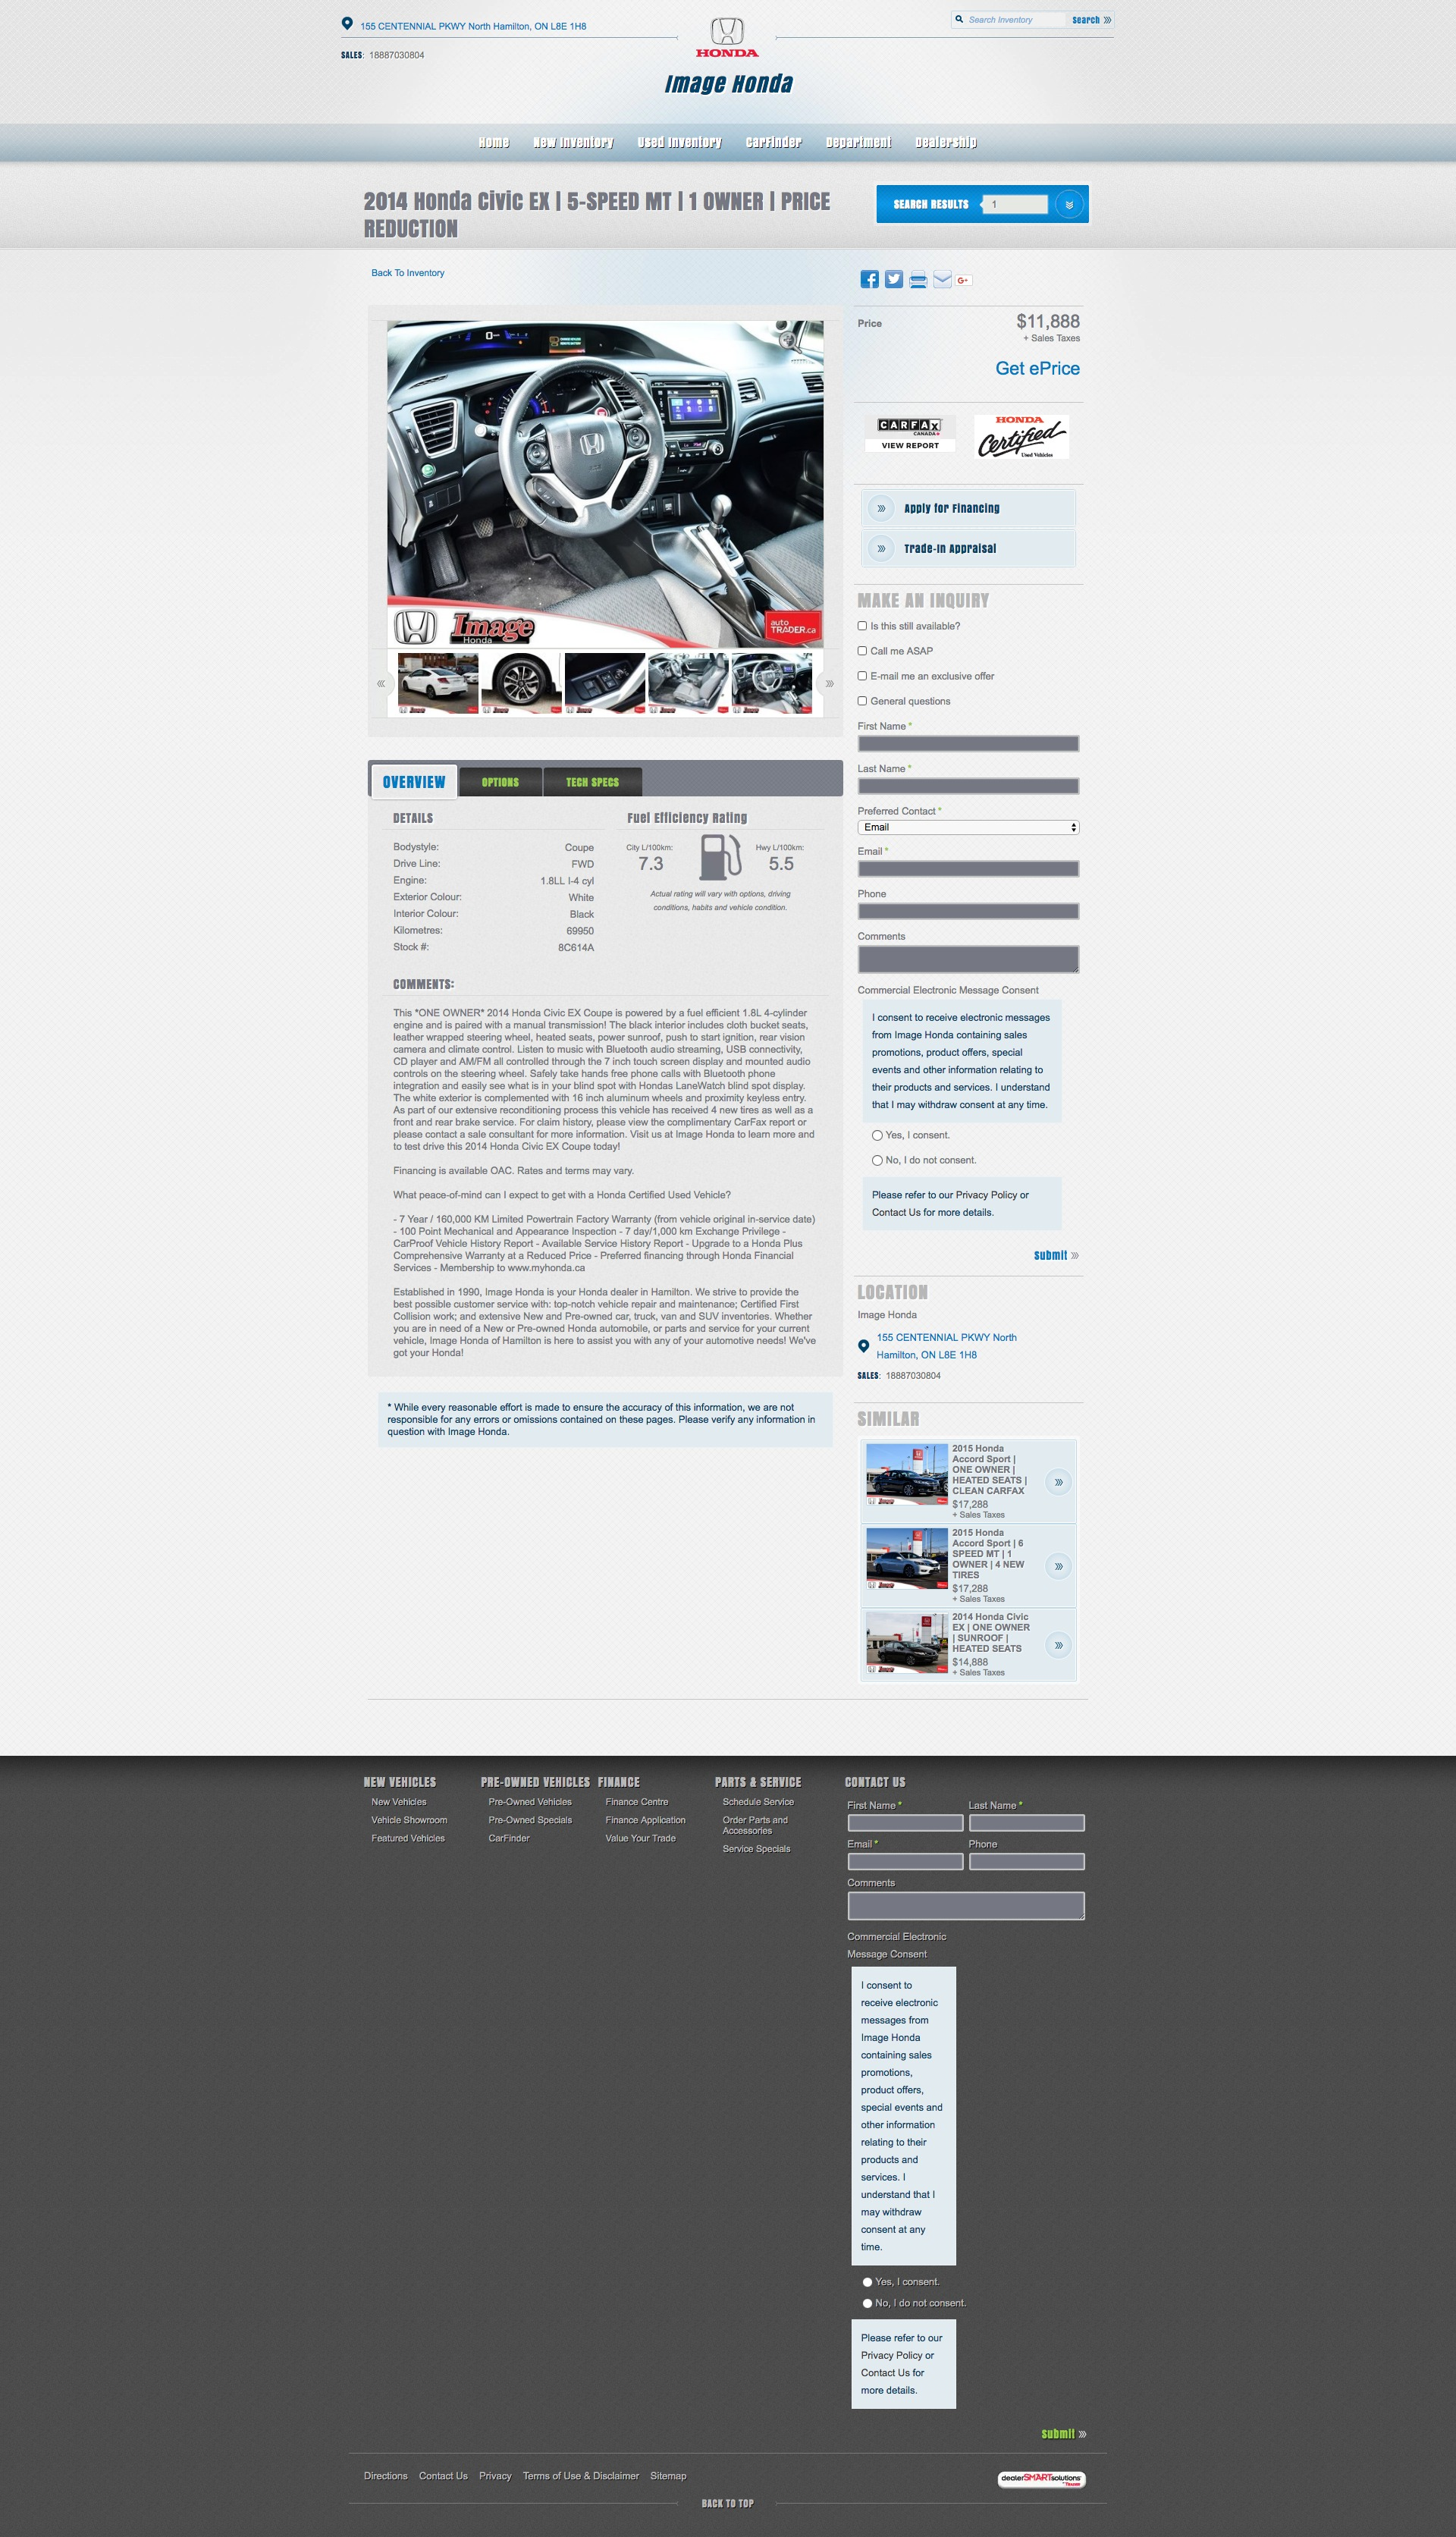car: (826, 680, 834, 688)
